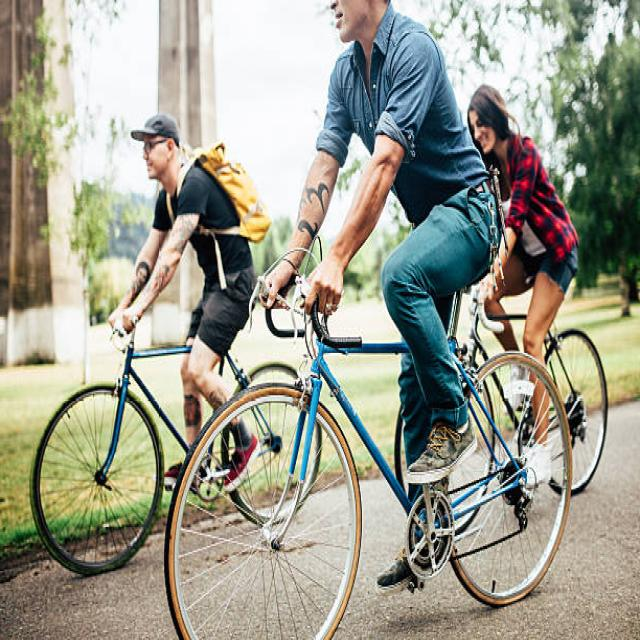bicycle: (165, 0, 571, 639), (31, 114, 296, 574)
